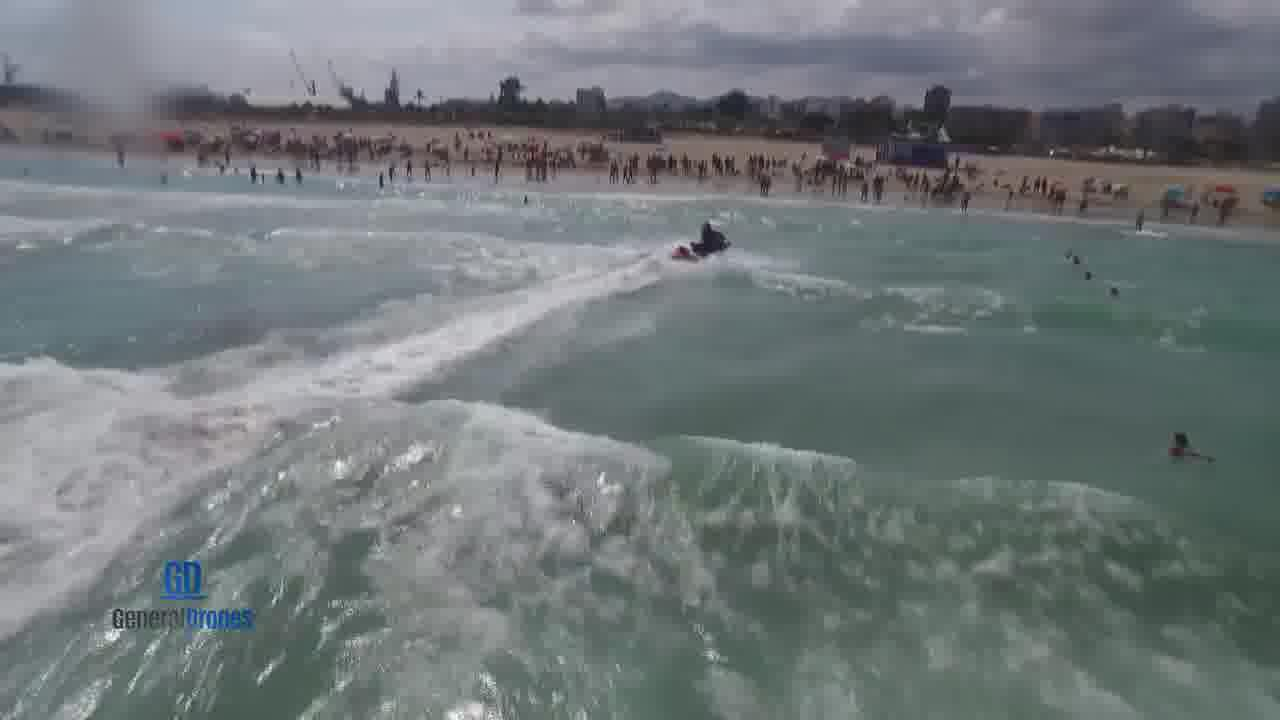human: (1154, 420, 1214, 477), (1101, 286, 1134, 308), (1069, 266, 1103, 286)
